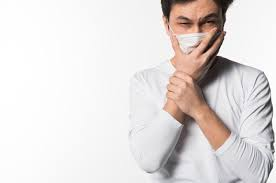masked: (158, 1, 224, 65)
